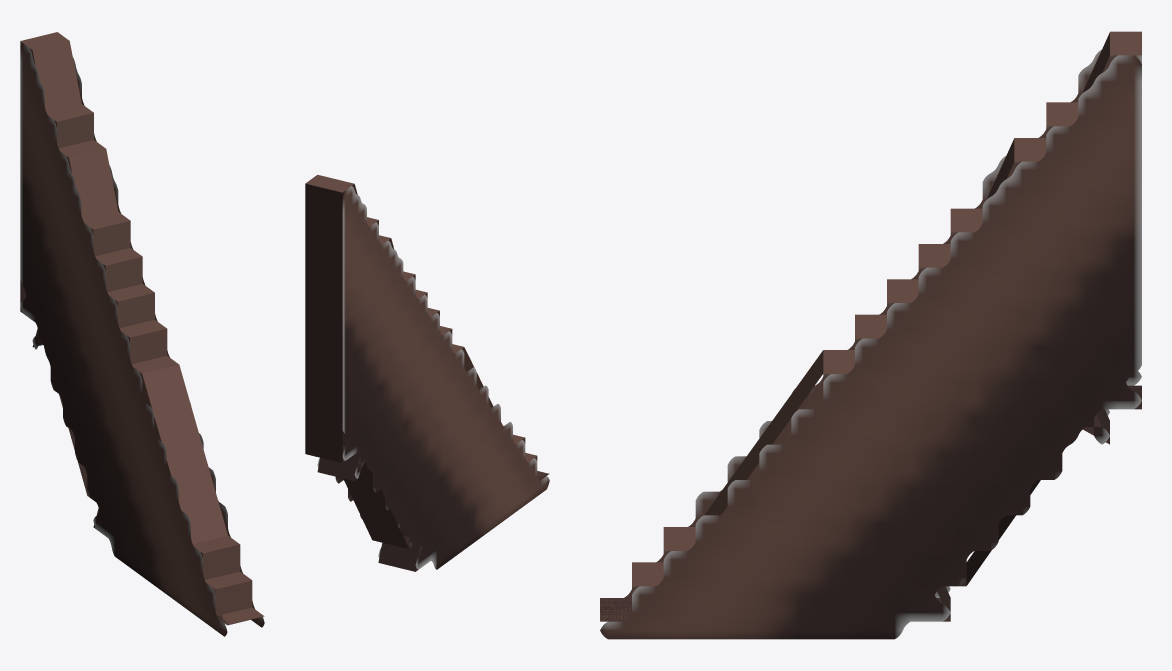
The model's file is pz_native_fixtures_railings_01_43_frame.obj.
The picture shows the model from 3 angles, left to right: view 1: azimuth 30°, elevation 25°; view 2: azimuth 150°, elevation 25°; view 3: azimuth 270°, elevation 25°; orthographic projection. The views are drawn at different scales.
Visible parts, largest first — view 1: pz_native_fixtures_railings_01_43_frame; view 2: pz_native_fixtures_railings_01_43_frame; view 3: pz_native_fixtures_railings_01_43_frame.
Part boxes in pixels (x1,y1,x2,y2): pz_native_fixtures_railings_01_43_frame: (20, 32, 264, 636); pz_native_fixtures_railings_01_43_frame: (305, 174, 549, 571); pz_native_fixtures_railings_01_43_frame: (600, 31, 1141, 639).
Bounding box in the file's own units: 0.045 × 0.5469 × 0.4593.
Materials: 1 (1 with a texture image).
